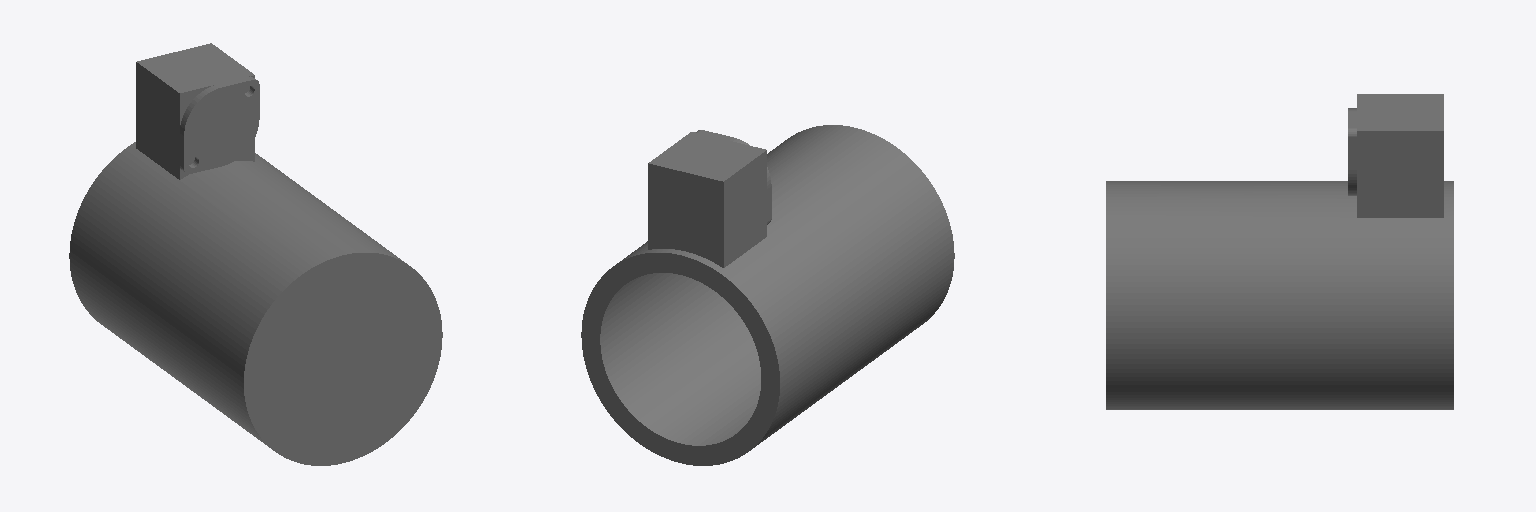
The model's file is spindelback.obj.
3 renders of one model, left to right at view 1: azimuth 30°, elevation 25°; view 2: azimuth 150°, elevation 25°; view 3: azimuth 270°, elevation 25°, orthographic.
Visible parts, largest first — view 1: spindelback_spindel.002; view 2: spindelback_spindel.002; view 3: spindelback_spindel.002.
Part boxes in pixels (x1,y1,x2,y2): spindelback_spindel.002: (69,43,442,465); spindelback_spindel.002: (581,125,954,465); spindelback_spindel.002: (1106,94,1453,409).
Size of the model in its own units: 79 by 109 by 120.